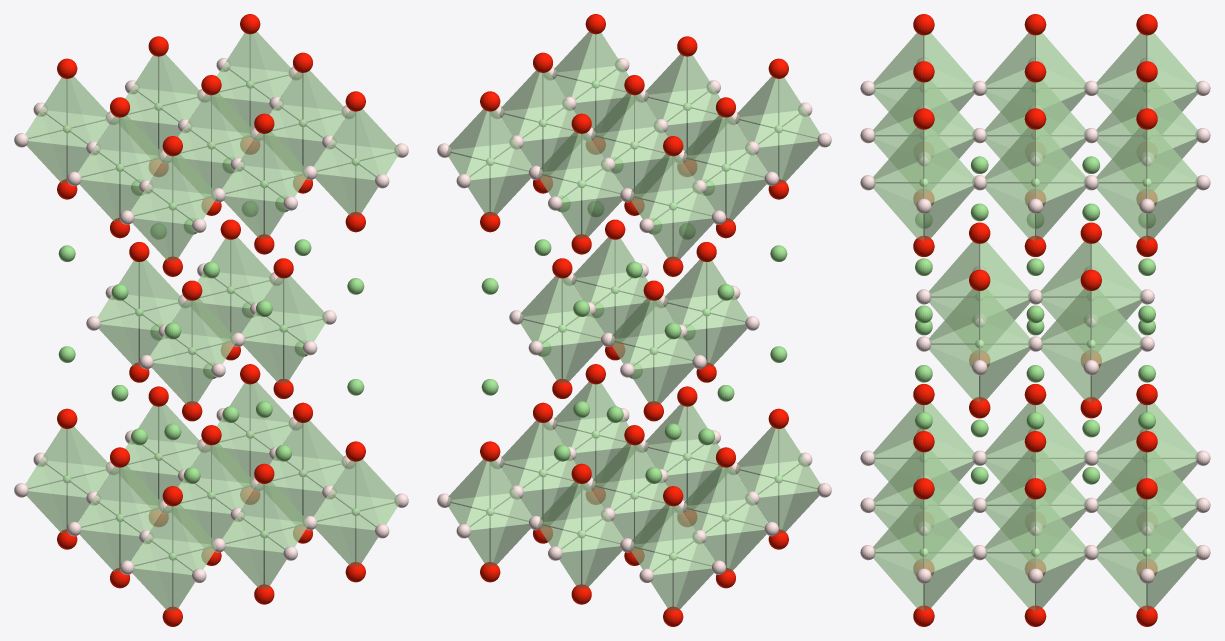
File: La1.136Sr0.864LiH1.872O2.128.fbx
3 views of the same model, side by side, from view 1: azimuth 30°, elevation 25°; view 2: azimuth 150°, elevation 25°; view 3: azimuth 270°, elevation 25° (orthographic). The views are drawn at different scales.
Parts seen in each view (by area): view 1: Shape_IndexedFaceSet.160, Shape_IndexedFaceSet.168, Shape_IndexedFaceSet.032, Shape_IndexedFaceSet.040, Shape_IndexedFaceSet.152, Shape_IndexedFaceSet.080, Shape_IndexedFaceSet.088, Shape_IndexedFaceSet.144, Shape_IndexedFaceSet.128, Shape_IndexedFaceSet.136, Shape_IndexedFaceSet.120, Shape_IndexedFaceSet.056 (+111 smaller); view 2: Shape_IndexedFaceSet.132, Shape_IndexedFaceSet.140, Shape_IndexedFaceSet.068, Shape_IndexedFaceSet.076, Shape_IndexedFaceSet.156, Shape_IndexedFaceSet.116, Shape_IndexedFaceSet.124, Shape_IndexedFaceSet.148, Shape_IndexedFaceSet.164, Shape_IndexedFaceSet.172, Shape_IndexedFaceSet.092, Shape_IndexedFaceSet.060 (+111 smaller); view 3: Shape_IndexedFaceSet.006, Shape_IndexedFaceSet.010, Shape_IndexedFaceSet.054, Shape_IndexedFaceSet.050, Shape_IndexedFaceSet.058, Shape_IndexedFaceSet.062, Shape_IndexedFaceSet.002, Shape_IndexedFaceSet.014, Shape_IndexedFaceSet.042, Shape_IndexedFaceSet.078, Shape_IndexedFaceSet.034, Shape_IndexedFaceSet.070 (+136 smaller).
Part boxes in pixels (box(x1,y1,x2,y2)): Shape_IndexedFaceSet.160: box(25, 428, 90, 497); Shape_IndexedFaceSet.168: box(25, 77, 90, 147); Shape_IndexedFaceSet.032: box(314, 460, 379, 530); Shape_IndexedFaceSet.040: box(314, 110, 379, 180); Shape_IndexedFaceSet.152: box(78, 116, 143, 185); Shape_IndexedFaceSet.080: box(223, 483, 287, 552); Shape_IndexedFaceSet.088: box(223, 133, 287, 202); Shape_IndexedFaceSet.144: box(78, 466, 143, 536); Shape_IndexedFaceSet.128: box(131, 505, 196, 574); Shape_IndexedFaceSet.136: box(131, 155, 196, 224); Shape_IndexedFaceSet.120: box(125, 55, 182, 125); Shape_IndexedFaceSet.056: box(270, 71, 326, 141); Shape_IndexedFaceSet.132: box(755, 428, 820, 497); Shape_IndexedFaceSet.140: box(755, 77, 820, 147); Shape_IndexedFaceSet.068: box(466, 460, 531, 530); Shape_IndexedFaceSet.076: box(466, 110, 531, 180); Shape_IndexedFaceSet.156: box(702, 116, 767, 185); Shape_IndexedFaceSet.116: box(558, 483, 622, 552); Shape_IndexedFaceSet.124: box(558, 133, 622, 202); Shape_IndexedFaceSet.148: box(702, 466, 767, 536); Shape_IndexedFaceSet.164: box(649, 505, 714, 574); Shape_IndexedFaceSet.172: box(649, 155, 714, 224); Shape_IndexedFaceSet.092: box(663, 55, 720, 125); Shape_IndexedFaceSet.060: box(519, 71, 575, 141); Shape_IndexedFaceSet.006: box(979, 289, 1030, 364); Shape_IndexedFaceSet.010: box(1040, 289, 1091, 364); Shape_IndexedFaceSet.054: box(1035, 497, 1086, 572); Shape_IndexedFaceSet.050: box(984, 497, 1035, 572); Shape_IndexedFaceSet.058: box(984, 127, 1035, 202); Shape_IndexedFaceSet.062: box(1035, 127, 1086, 202); Shape_IndexedFaceSet.002: box(929, 289, 979, 364); Shape_IndexedFaceSet.014: box(1091, 289, 1141, 364); Shape_IndexedFaceSet.042: box(873, 127, 923, 202); Shape_IndexedFaceSet.078: box(1147, 127, 1197, 202); Shape_IndexedFaceSet.034: box(873, 497, 923, 572); Shape_IndexedFaceSet.070: box(1147, 497, 1197, 572).
Bounding box in the file's own units: 1141 × 1858 × 1141.
